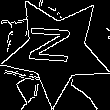N_E: (30, 28, 82, 73)
